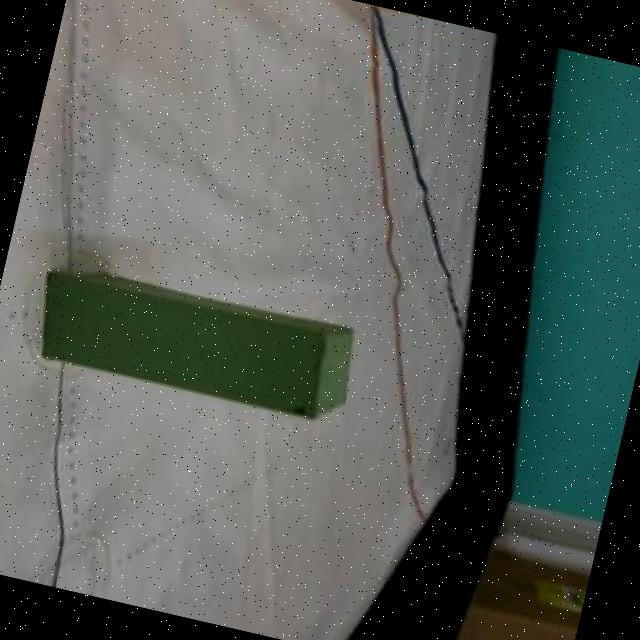greenbox: (24, 258, 364, 427)
